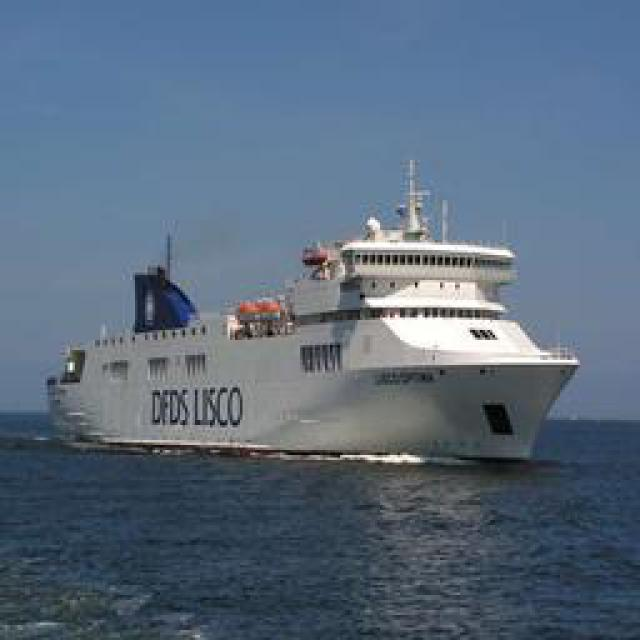Ship: (49, 159, 579, 469)
